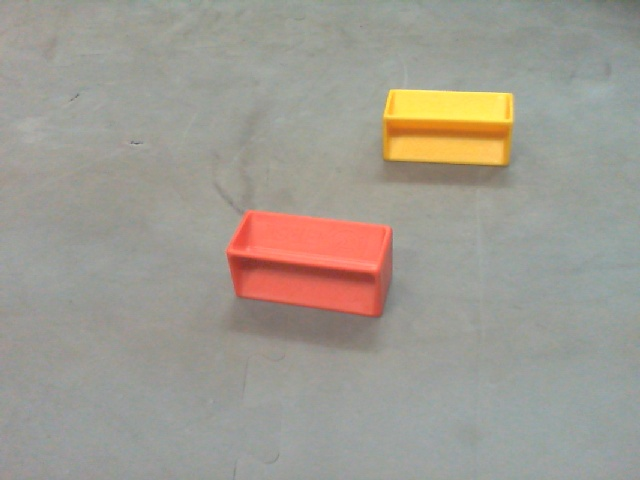RedSample: (224, 204, 395, 332)
YellowSample: (380, 89, 515, 167)
